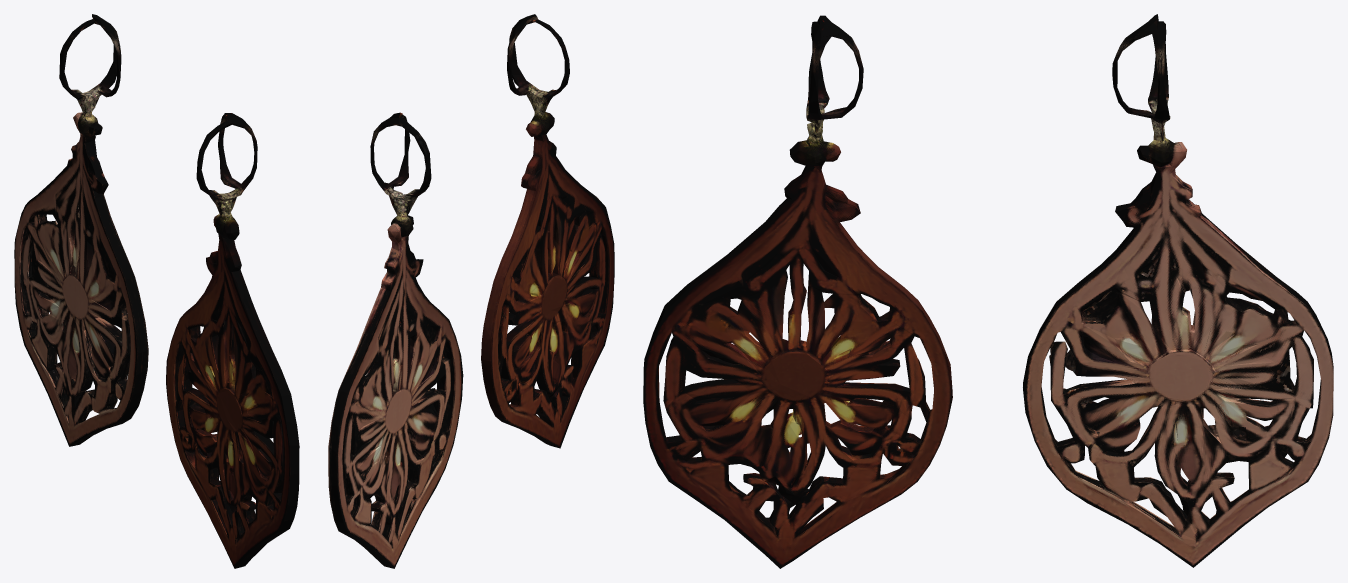
Rendered from wooden-earrings-art-deco.jpeg.glb.
3 renders of one model, left to right at view 1: azimuth 30°, elevation 25°; view 2: azimuth 150°, elevation 25°; view 3: azimuth 270°, elevation 25°, orthographic. The views are drawn at different scales.
Visible parts, largest first — view 1: world; view 2: world; view 3: world.
Part boxes in pixels (x1,y1,x2,y2): world: [14, 14, 299, 568]; world: [328, 14, 614, 568]; world: [643, 14, 1333, 568].
Size of the model in its own units: 0.1259 by 0.8858 by 1.
Materials: 1 (1 with a texture image).
